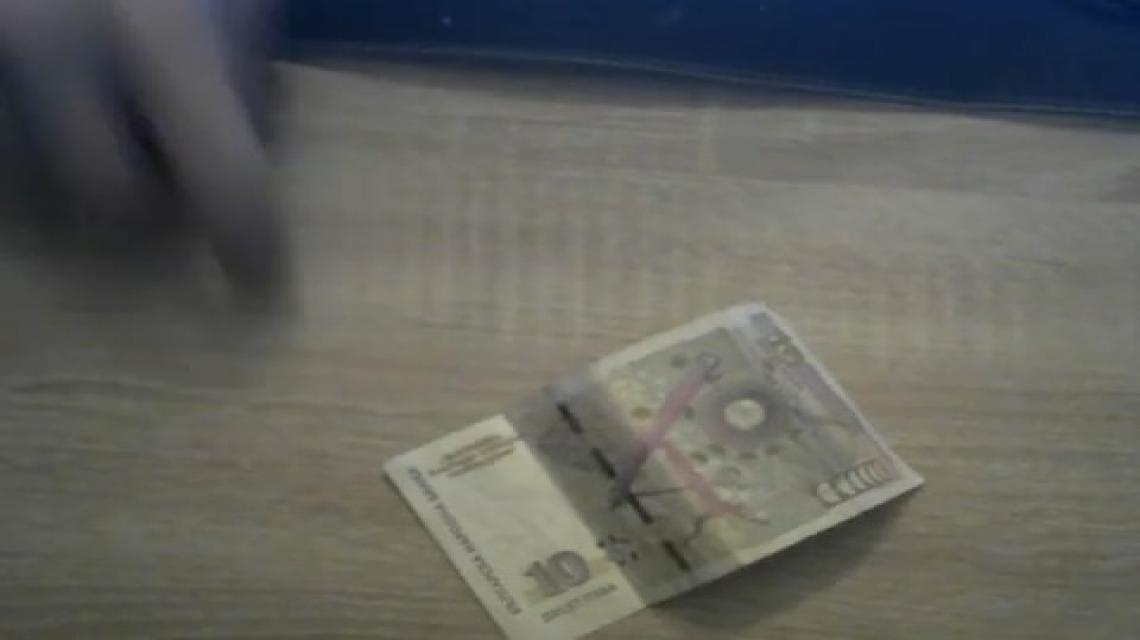10leva: (380, 304, 924, 640)
